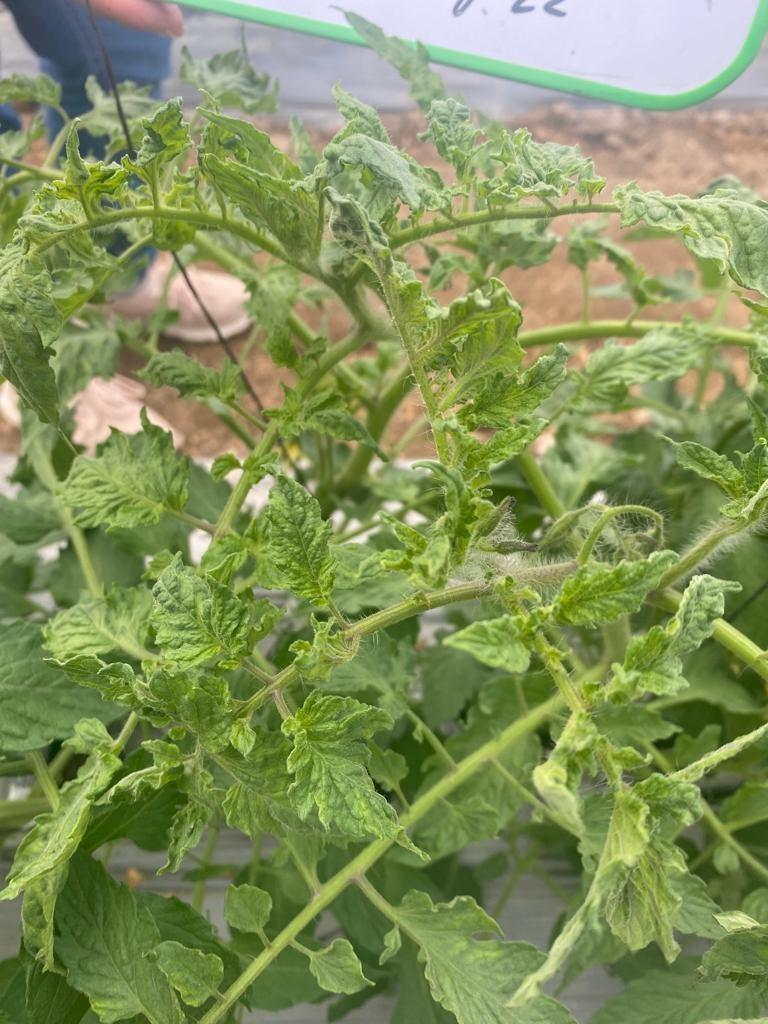Hoja: (54, 852, 186, 1024)
Hoja rugoso: (0, 718, 122, 970), (394, 890, 576, 1024), (588, 774, 704, 961), (282, 692, 410, 846), (60, 420, 188, 530), (150, 554, 264, 668), (552, 550, 678, 626), (264, 474, 336, 604), (150, 940, 224, 1006), (292, 938, 372, 994), (226, 884, 272, 945)
